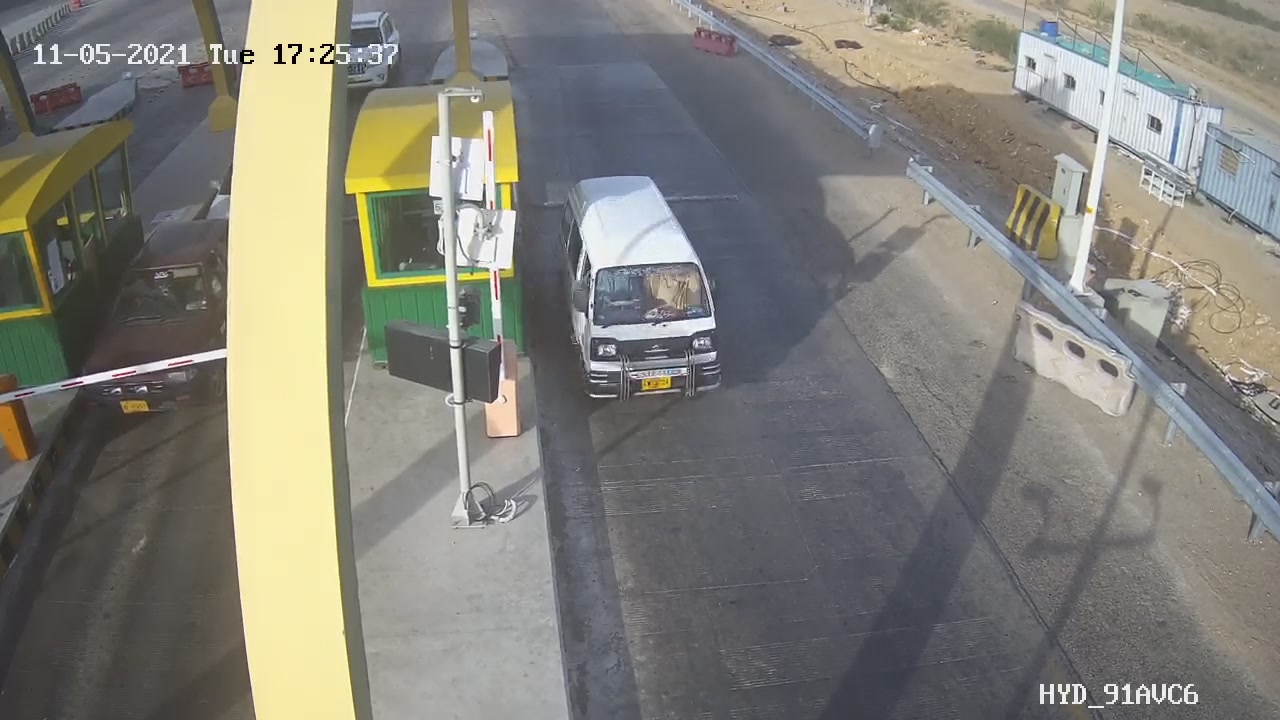F1: (538, 161, 742, 422)
